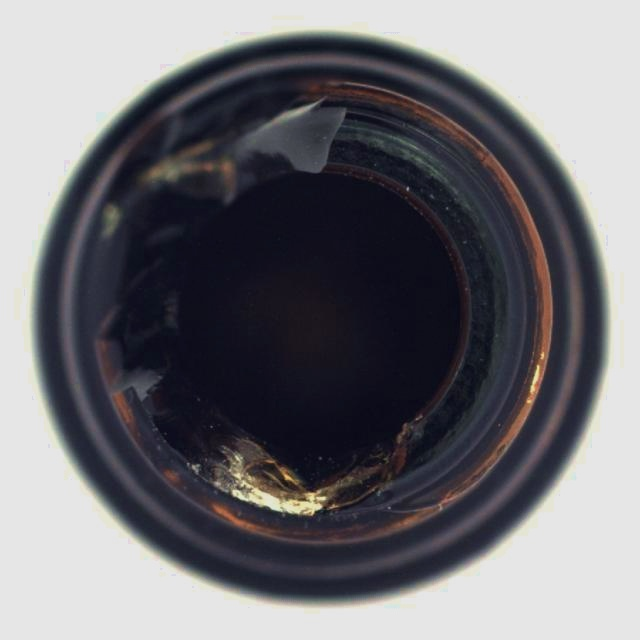bad-broken_large: (31, 31, 609, 609)
